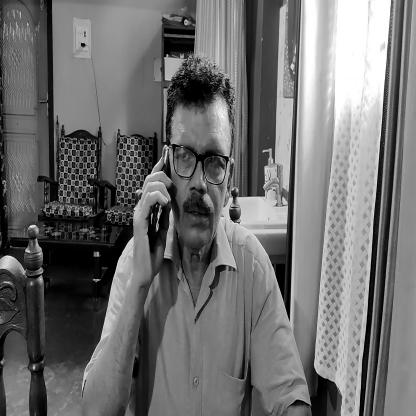Normal: (161, 54, 236, 258)
